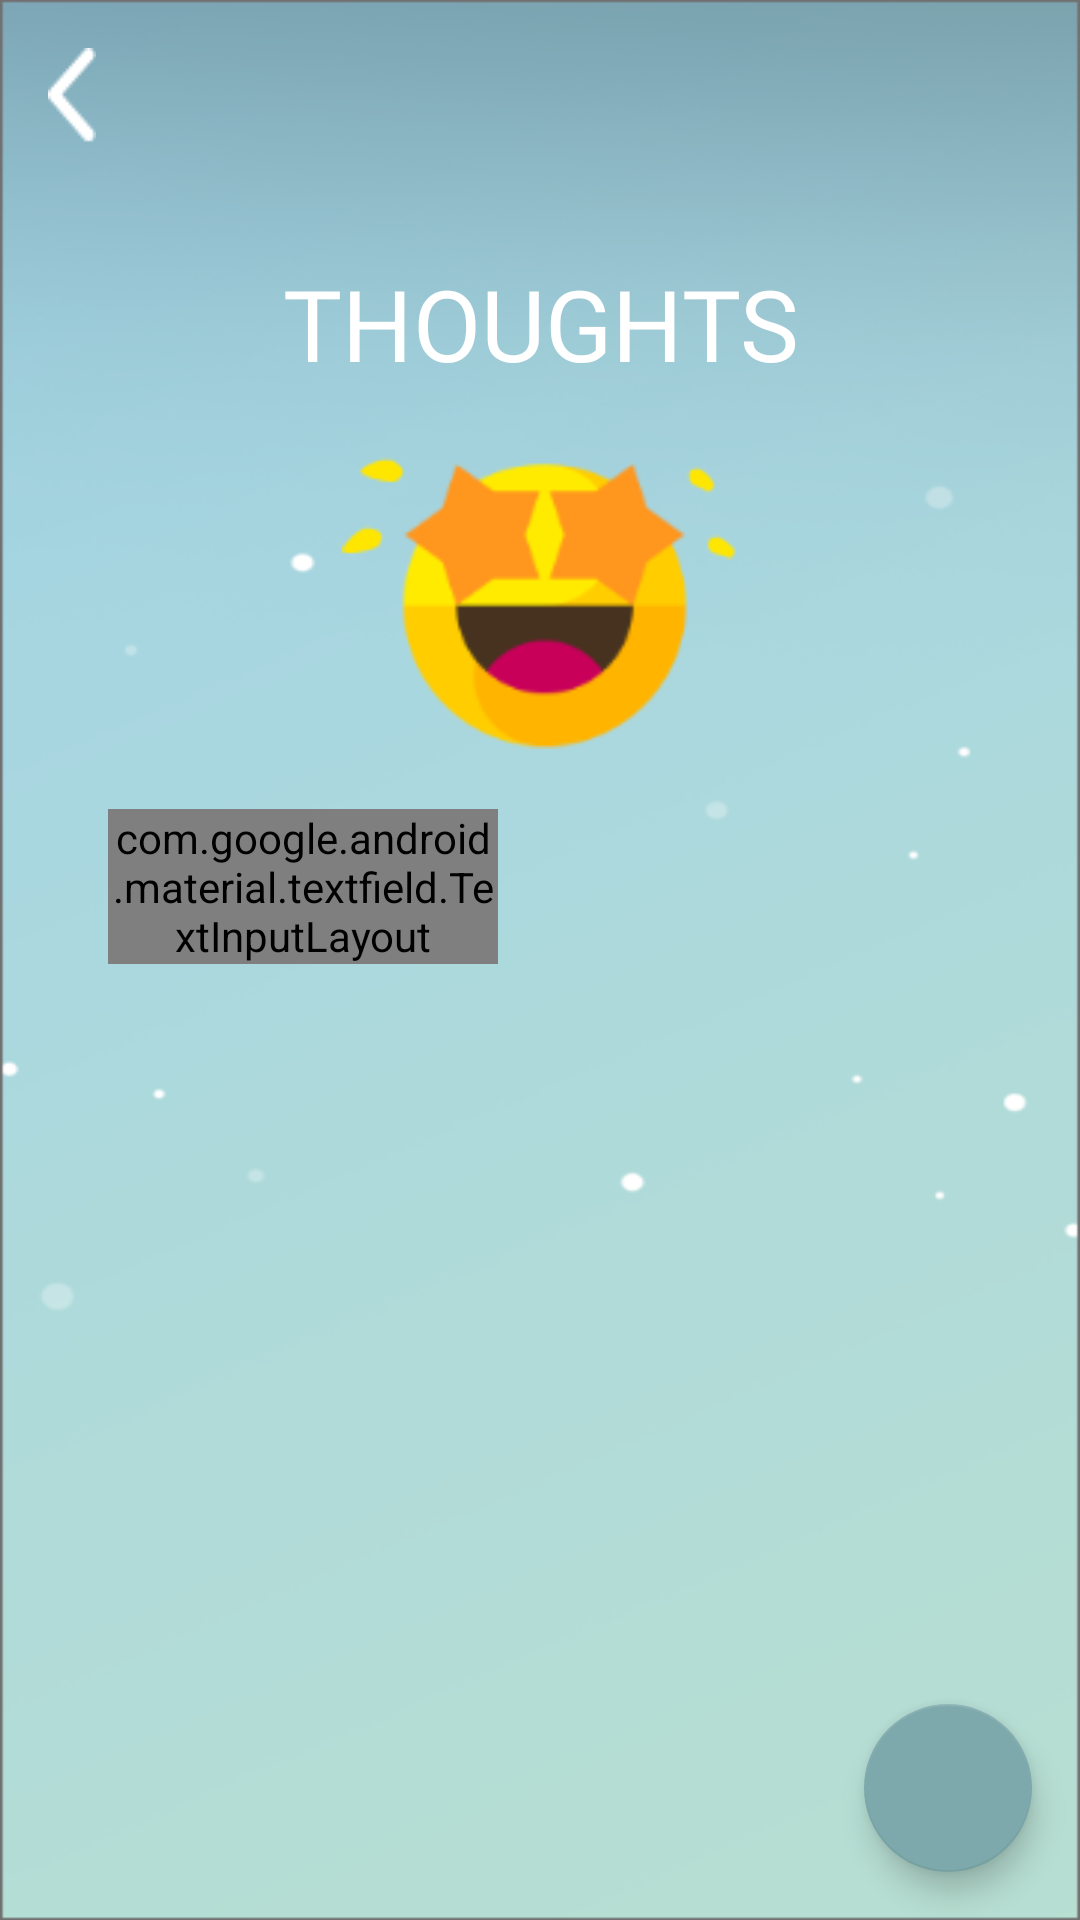

Icon bounding boxes for this 1080×1920 phone screenshot, format (x1, y1, x2, y2):
arrow back: (48, 48, 96, 142)
